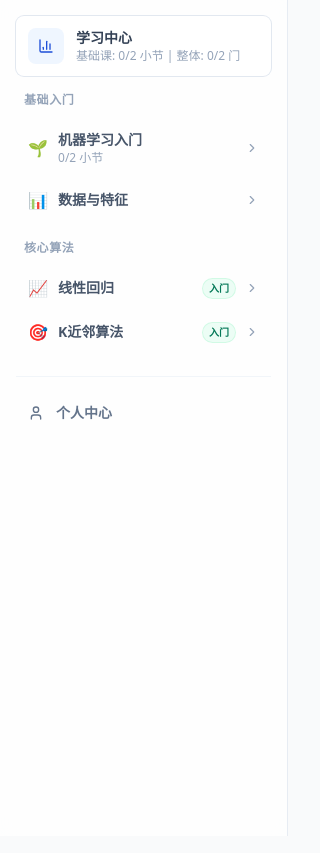
Scenario: Sidebar › expands course to show lessons when clicked
The image size is (320, 853).
Click the button "🌱 机器学习入门 0/2 小节".
click(144, 148)  # box [16,120,271,176]
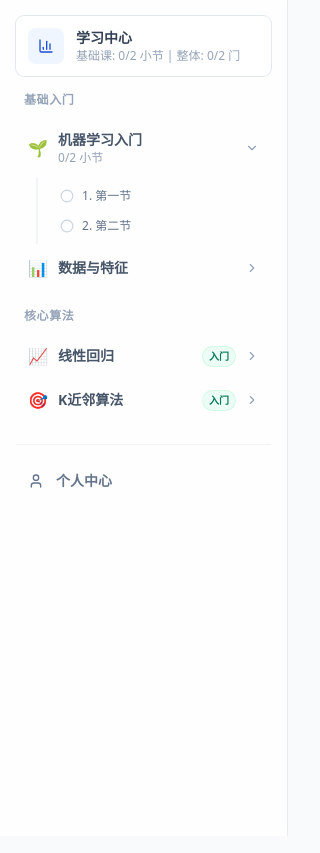
Result: the text "1. 第一节" is shown at [82,188,131,204]
Result: the text "2. 第二节" is shown at [82,218,131,234]
